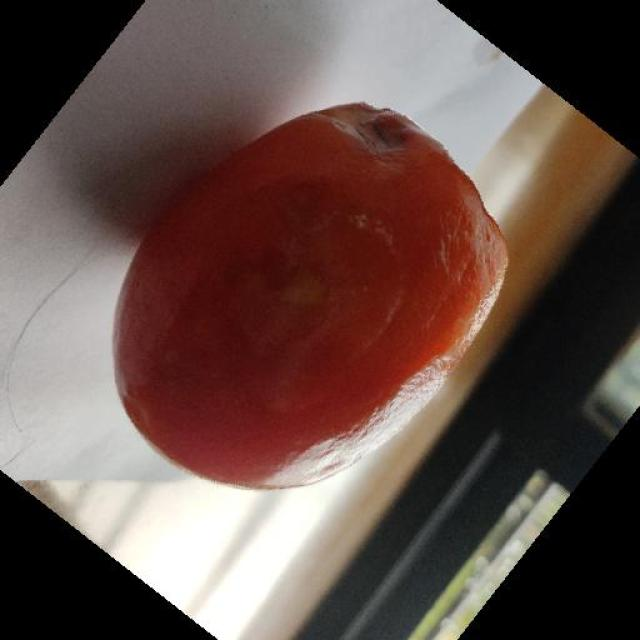Stale_tomato: (134, 67, 504, 492)
